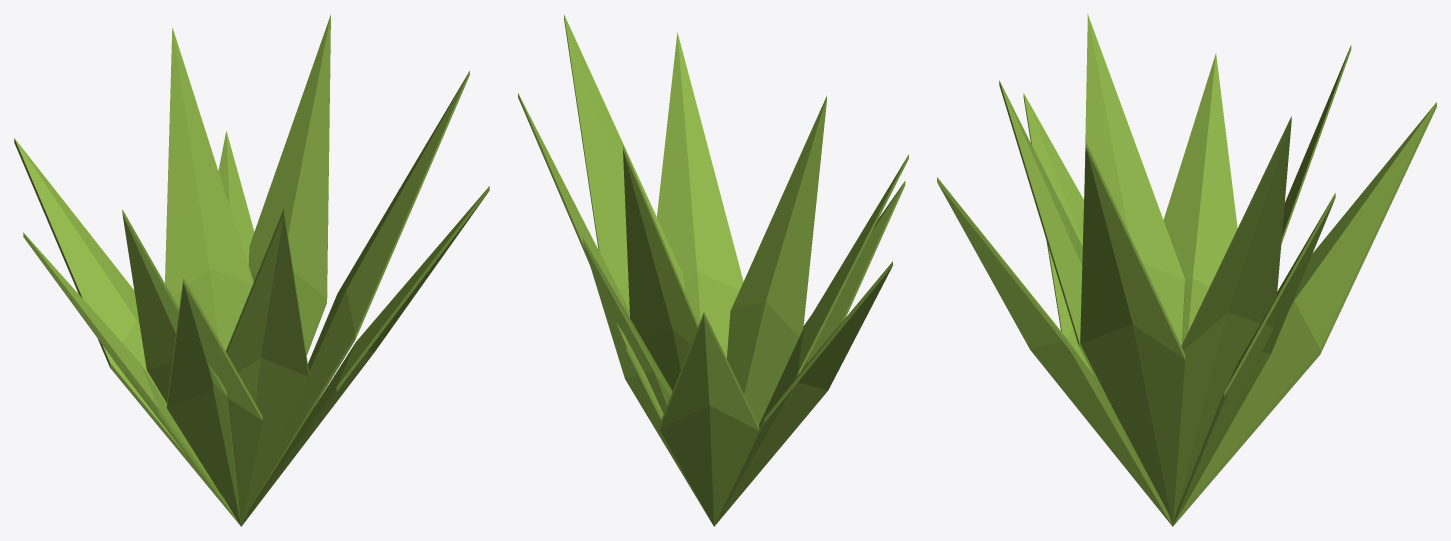
3 views of the same model, side by side, from view 1: azimuth 30°, elevation 25°; view 2: azimuth 150°, elevation 25°; view 3: azimuth 270°, elevation 25° (orthographic). The views are drawn at different scales.
Parts seen in each view (by area): view 1: 完整灌木_4.001; view 2: 完整灌木_4.001; view 3: 完整灌木_4.001.
Part boxes in pixels (x1,y1,x2,y2): 完整灌木_4.001: [14, 14, 489, 526]; 完整灌木_4.001: [518, 14, 908, 526]; 完整灌木_4.001: [937, 14, 1436, 526].
Bounding box in the file's own units: 0.3383 × 0.3658 × 0.3389.
